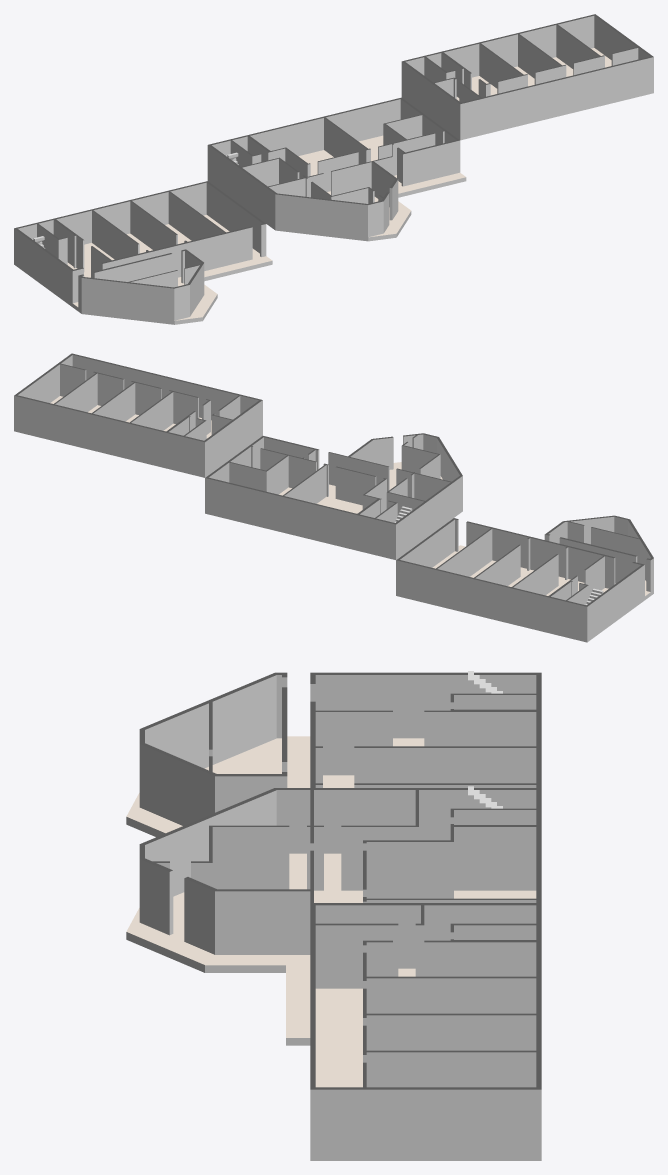
3 views of the same model, one above another, from view 1: azimuth 30°, elevation 25°; view 2: azimuth 150°, elevation 25°; view 3: azimuth 270°, elevation 25° (orthographic). The views are drawn at different scales.
Parts seen in each view (by area): view 1: 60476, 59985, 60746, 60474, 59983, 60744, 59817, 60242, 60608; view 2: 59985, 60476, 60746, 60474, 59983, 60744, 60242, 59817; view 3: 60746, 60476, 59985, 60242, 60744, 59983, 60608, 60474, 59817.
Part boxes in pixels (left/top/right/bottom): 60476: left=207, top=99, right=466, bottom=241; 59985: left=14, top=182, right=272, bottom=324; 60746: left=401, top=15, right=653, bottom=140; 60474: left=208, top=97, right=459, bottom=204; 59983: left=14, top=181, right=265, bottom=288; 60744: left=402, top=14, right=653, bottom=104; 59817: left=67, top=215, right=271, bottom=320; 60242: left=298, top=135, right=465, bottom=237; 60608: left=456, top=48, right=611, bottom=100; 59985: left=396, top=516, right=653, bottom=642; 60476: left=205, top=434, right=462, bottom=559; 60746: left=14, top=355, right=262, bottom=477; 60474: left=205, top=433, right=462, bottom=524; 59983: left=396, top=515, right=653, bottom=606; 60744: left=14, top=353, right=262, bottom=442; 60242: left=279, top=462, right=442, bottom=513; 59817: left=432, top=545, right=650, bottom=595; 60746: left=310, top=905, right=541, bottom=1160; 60476: left=126, top=790, right=536, bottom=1045; 59985: left=126, top=675, right=536, bottom=837; 60242: left=126, top=853, right=536, bottom=1037; 60744: left=310, top=903, right=541, bottom=1089; 59983: left=139, top=672, right=541, bottom=787; 60608: left=315, top=968, right=415, bottom=1087; 60474: left=139, top=788, right=541, bottom=902; 59817: left=126, top=736, right=424, bottom=833.
Bounding box in the file's own units: 75.66 × 13.5 × 23.74.
